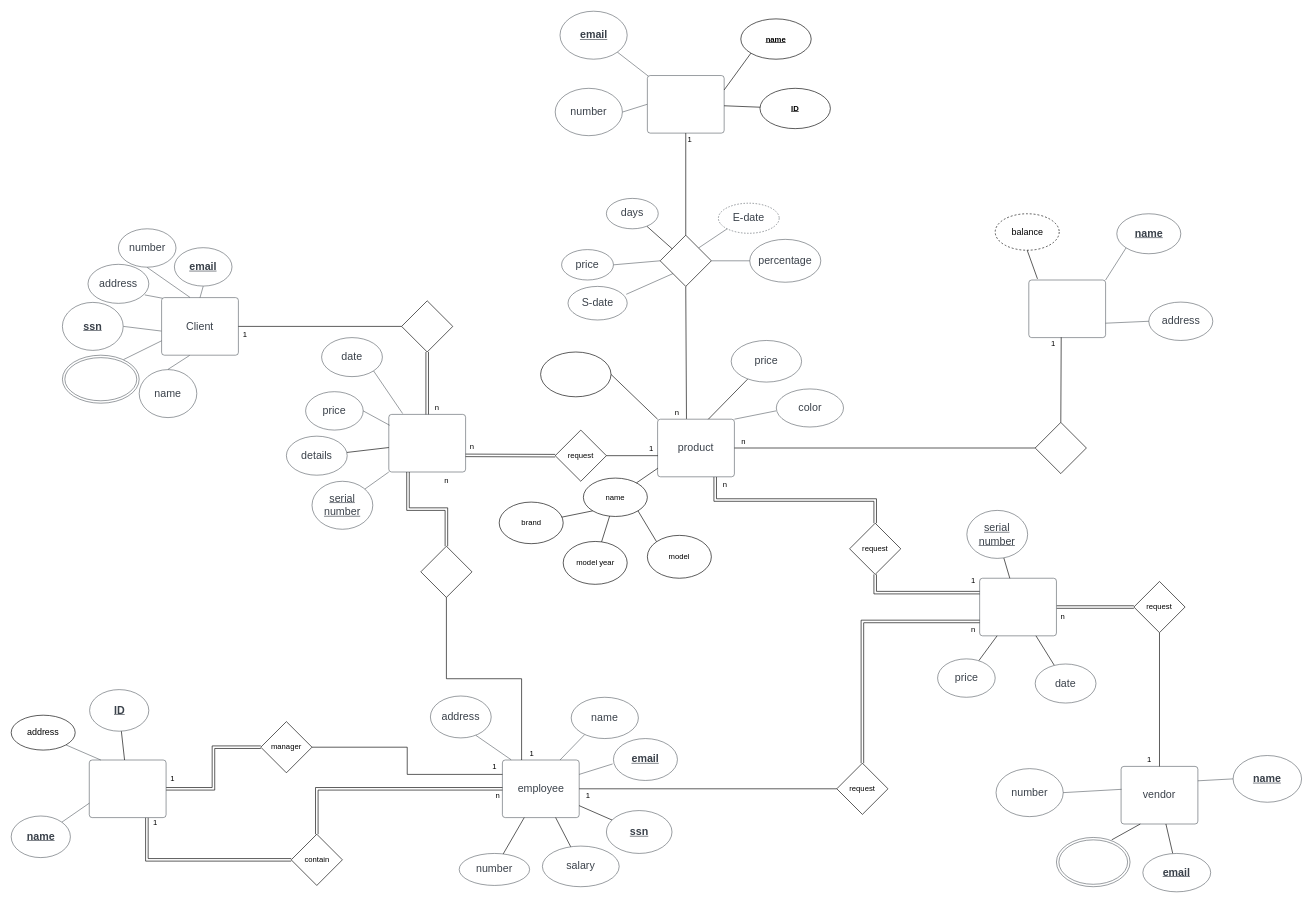
Some shapes in this 1313 by 903 pixel diagram are drawn without their labels. Here are the shapes that lost their labels. From the top down, the centre of each, then its label:
At point (685, 104): "Insurance company".
At point (685, 260): "has".
At point (427, 326): "make".
At point (1067, 308): "warehouse".
At point (100, 379): "payment method".
At point (575, 374): "VIN".
At point (427, 443): "client order".
At point (1060, 448): "store".
At point (446, 571): "oversee".
At point (1017, 607): "supply order".
At point (127, 788): "department".
At point (1093, 862): "addressess".
